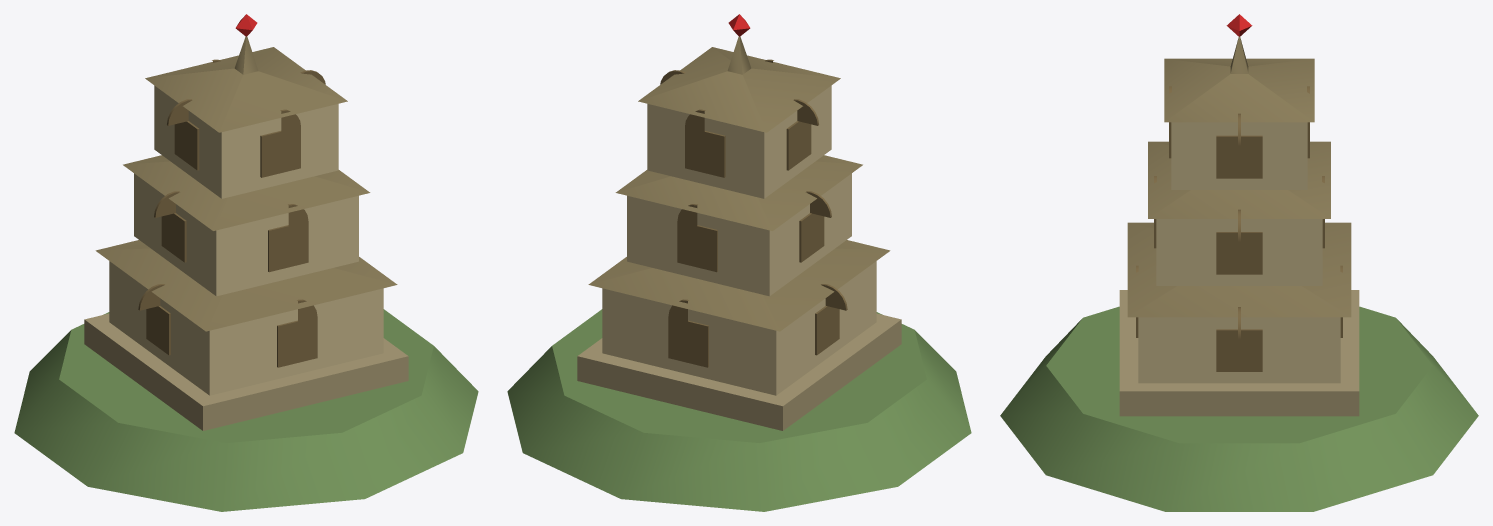
File: thap-rua.glb
3 renders of one model, left to right at view 1: azimuth 30°, elevation 25°; view 2: azimuth 150°, elevation 25°; view 3: azimuth 270°, elevation 25°, orthographic.
Visible parts, largest first — view 1: thap-rua; view 2: thap-rua; view 3: thap-rua.
Part boxes in pixels (bbox=[...]): thap-rua: bbox=[14, 14, 478, 511]; thap-rua: bbox=[507, 14, 971, 511]; thap-rua: bbox=[1000, 14, 1478, 511].
Bounding box in the file's own units: 9.89 × 9.63 × 10.4.
